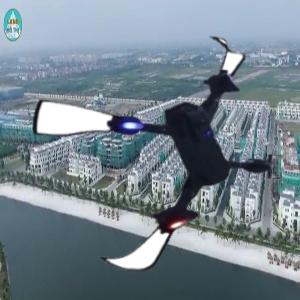drone: (30, 30, 290, 290)
